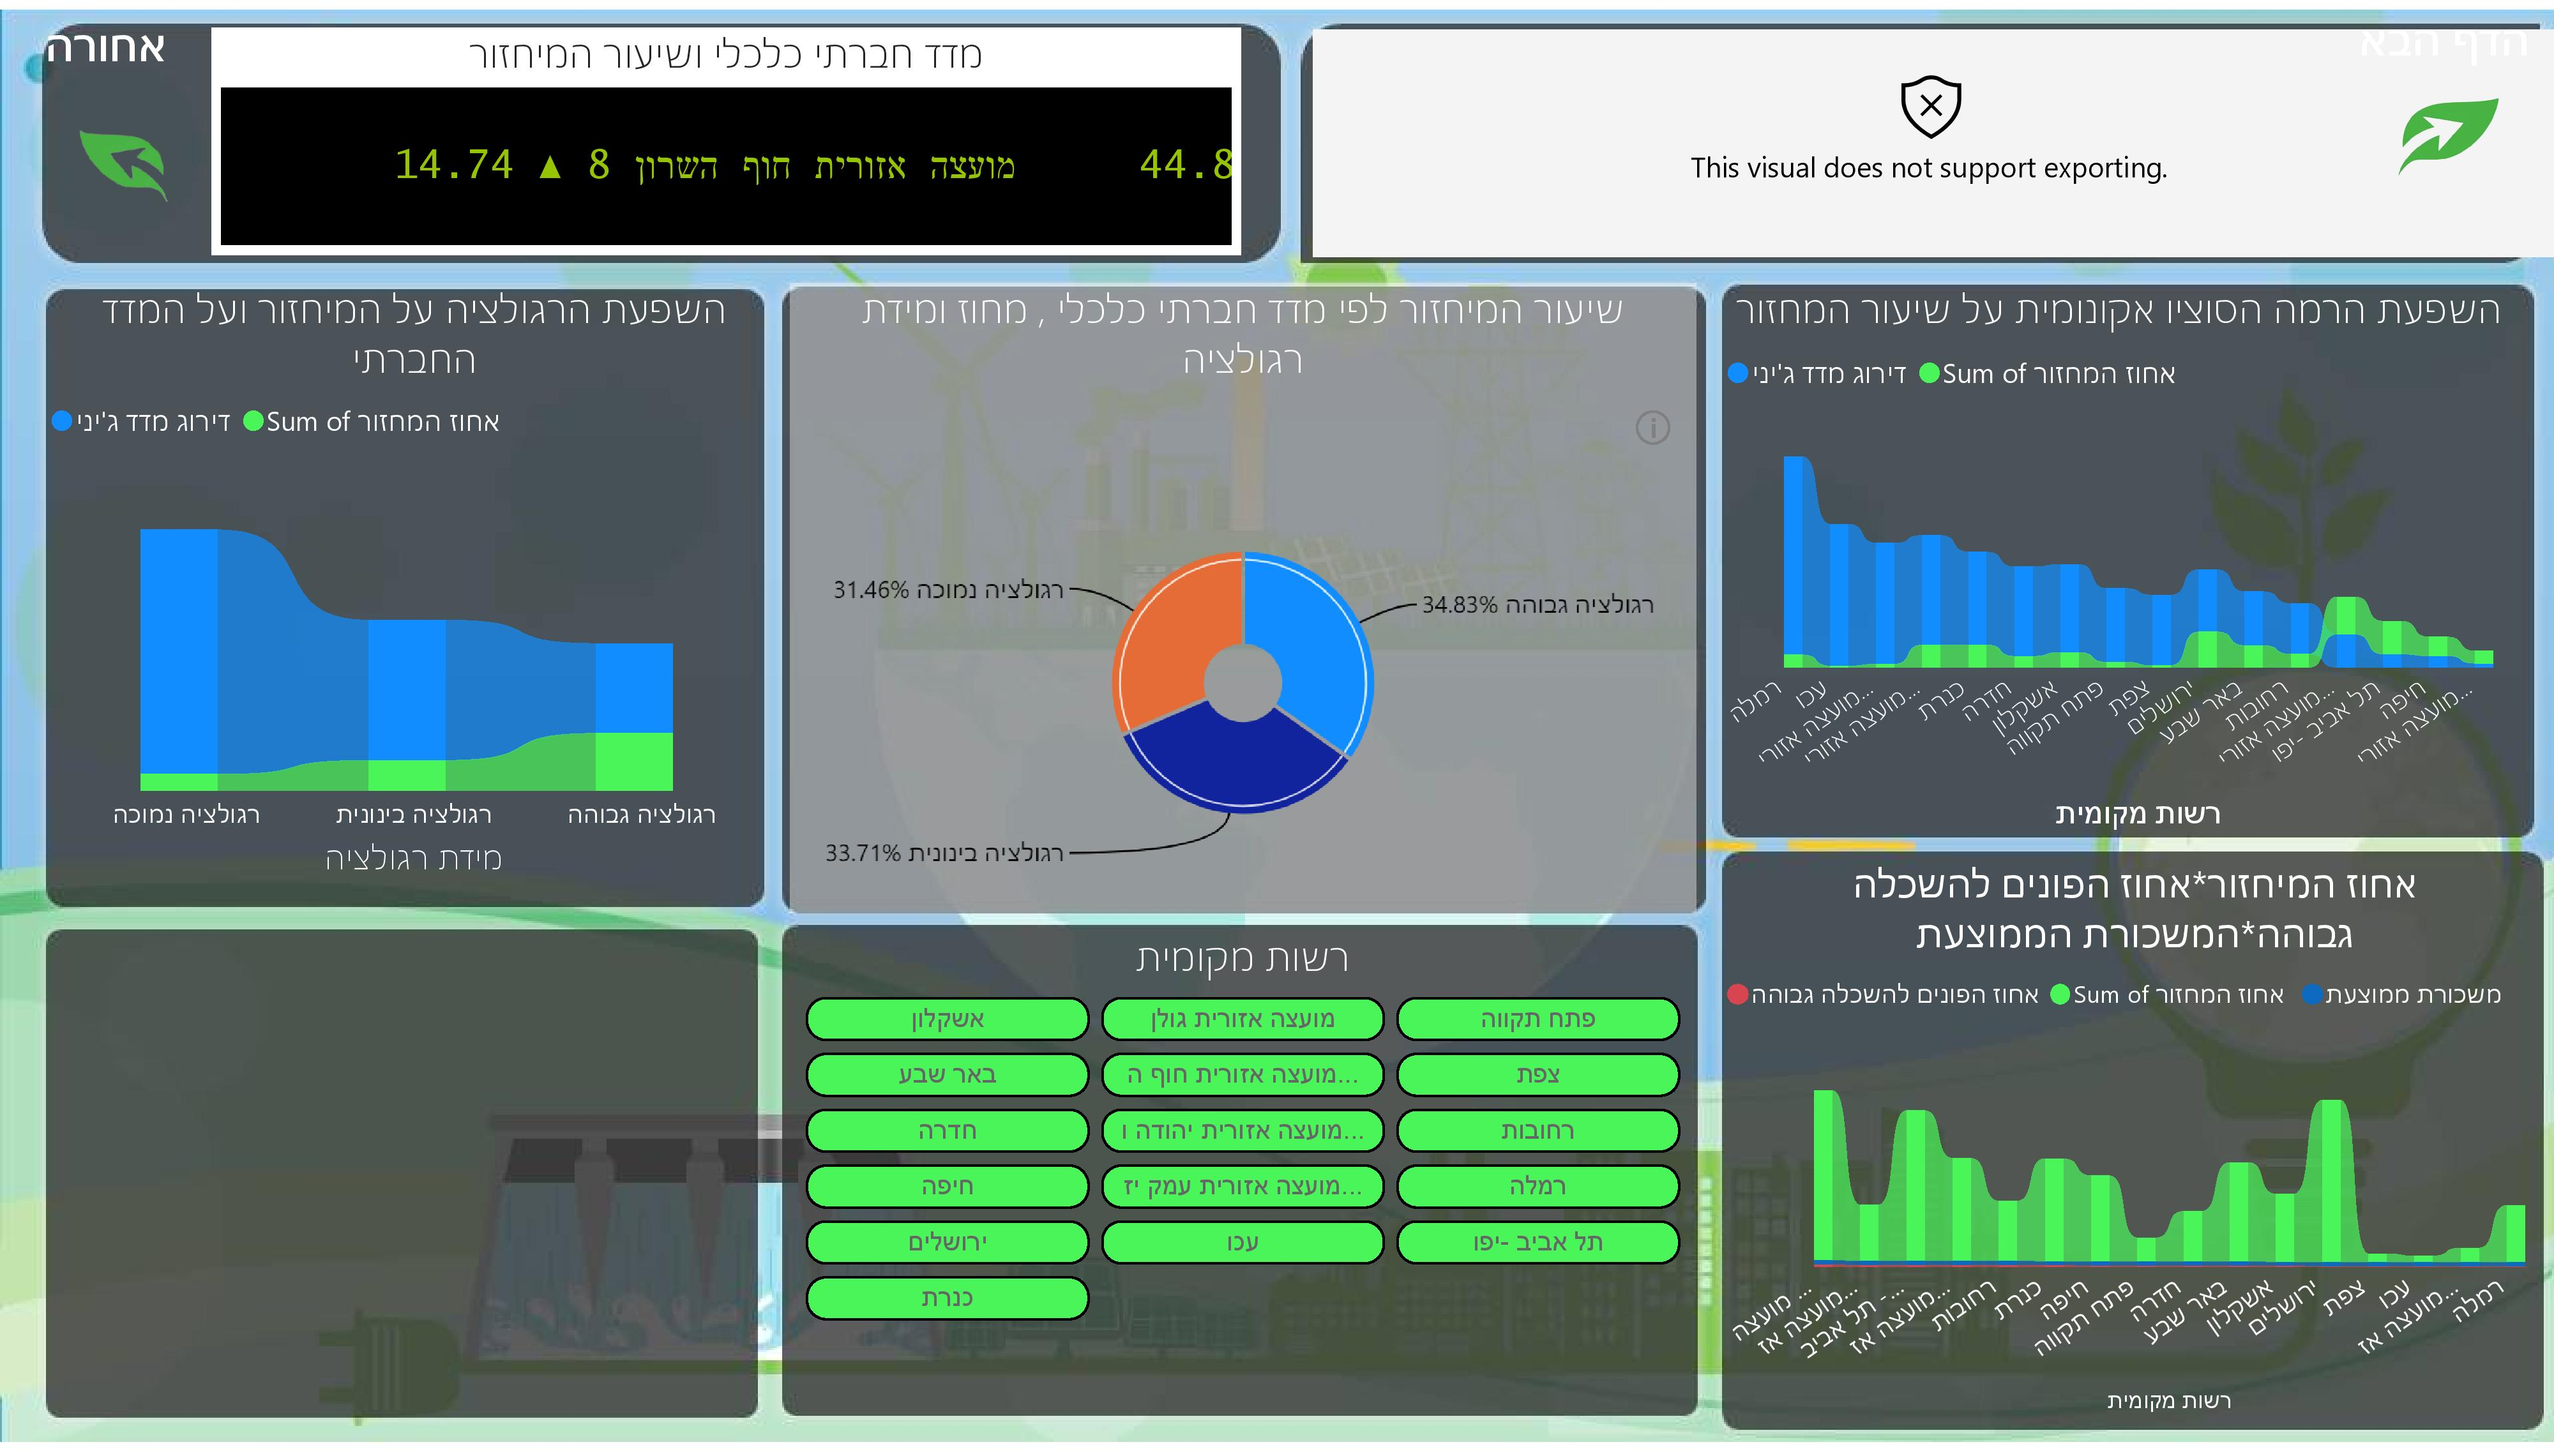

This screenshot's page, from the dashboard's own definition file:
{"tool":"powerbi","page":{"name":"מיחזור וייצור פסולת לפי מדדים חברתיים בישראל ","canvas":[1280,720],"ordinal":2},"visuals":[{"type":"ribbonChart","title":"השפעת הרמה הסוציו אקונומית על שיעור המחזור","fields":{"Category":["טבלת מדדים חברתיים כלכליים.רשות מקומית"],"Y":["Sum(טבלת מדדים חברתיים כלכליים.דירוג מדד ג'יני)","Sum(טבלת מדדים חברתיים כלכליים.אחוז המחזור )"]},"box":[859.7,137.3,403.6,279.4],"z":0},{"type":"ribbonChart","title":"אחוז המיחזור*אחוז הפונים להשכלה גבוהה*המשכורת הממוצעת","fields":{"Category":["טבלת מדדים חברתיים כלכליים.רשות מקומית"],"Y":["Sum(טבלת מדדים חברתיים כלכליים.אחוז הפונים השכלה גבוהה)","Sum(טבלת מדדים חברתיים כלכליים.אחוז המחזור )","CountNonNull(Cities (Original).Avg Salary)"]},"box":[860.1,425.3,419.9,283.1],"z":1000},{"type":"powerslider","title":"מדד חברתי","fields":{"Category":["טבלת מדדים חברתיים כלכליים.מדד חברתי כלכלי"]},"box":[657.9,9.6,622.1,114.6],"z":2000},{"type":"ribbonChart","title":"השפעת הרגולציה על המיחזור ועל המדד החברתי","fields":{"Category":["Cities (Original).מידת רגולציה"],"Y":["Sum(טבלת מדדים חברתיים כלכליים.דירוג מדד ג'יני)","Sum(טבלת מדדים חברתיים כלכליים.אחוז המחזור )"]},"box":[20.3,136.8,375.2,303.4],"z":3000},{"type":"ChicletSlicer1448559807354","title":"רשות מקומית","fields":{"Category":["טבלת מדדים חברתיים כלכליים.רשות מקומית"]},"box":[395.5,461.9,453.8,227.6],"z":4000},{"type":"ZoomChartsPieChartFree33C9F325D337408C98D4E1D4E1EAD703","title":"שיעור המיחזור לפי מדד חברתי כלכלי , מחוז ומידת רגולציה","fields":{"Category":["Cities (Original).מידת רגולציה","Cities (Original).City District"],"Values":["Sum(טבלת מדדים חברתיים כלכליים.מדד חברתי כלכלי)"]},"box":[395.5,136.8,453.8,315.6],"z":5000},{"type":"ScrollingTextVisual1448795304508","title":"מדד חברתי כלכלי ושיעור המיחזור","fields":{"Category":["טבלת מדדים חברתיים כלכליים.רשות מקומית"],"Measure Absolute":["Sum(טבלת מדדים חברתיים כלכליים.מדד חברתי כלכלי)"],"Measure Deviation":["Sum(טבלת מדדים חברתיים כלכליים.אחוז המחזור )"]},"box":[105.9,9.4,516,113.9],"z":6000},{"type":"image","title":"אחורה","box":[0,2.7,105.9,104.5],"z":7000},{"type":"image","title":"הדף הבא","box":[1170.1,0,109.9,92.5],"z":8000}]}

Visuals, with their boxes in screenshot pixels (x1, y1, x2, y2), scaled from the page's 1280x720 canvas onto the 2554x1456 screenshot:
"השפעת הרמה הסוציו אקונומית על שיעור המחזור" ribbonChart: bbox(1716, 278, 2521, 843)
"אחוז המיחזור*אחוז הפונים להשכלה גבוהה*המשכורת הממוצעת" ribbonChart: bbox(1716, 860, 2553, 1432)
"מדד חברתי" powerslider: bbox(1313, 19, 2553, 251)
"השפעת הרגולציה על המיחזור ועל המדד החברתי" ribbonChart: bbox(40, 276, 789, 890)
"רשות מקומית" ChicletSlicer1448559807354: bbox(789, 934, 1695, 1394)
"שיעור המיחזור לפי מדד חברתי כלכלי , מחוז ומידת רגולציה" ZoomChartsPieChartFree33C9F325D337408C98D4E1D4E1EAD703: bbox(789, 276, 1695, 915)
"מדד חברתי כלכלי ושיעור המיחזור" ScrollingTextVisual1448795304508: bbox(211, 19, 1241, 250)
"אחורה" image: bbox(0, 6, 211, 217)
"הדף הבא" image: bbox(2335, 0, 2553, 187)
